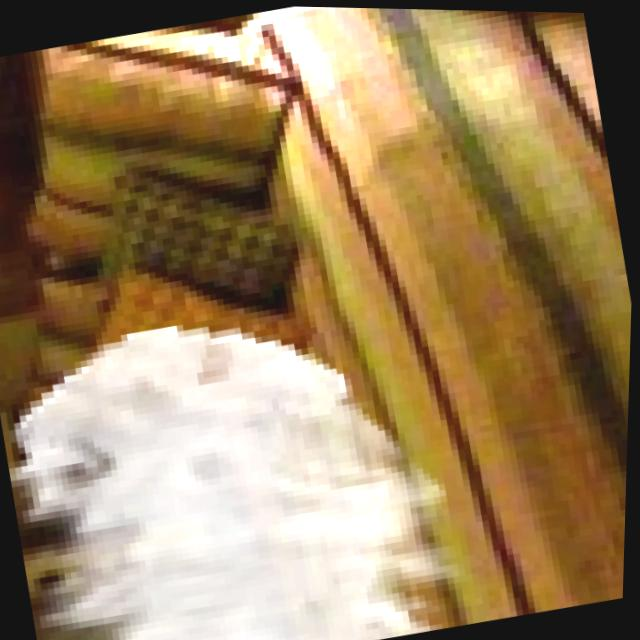smoke: (0, 274, 486, 640)
